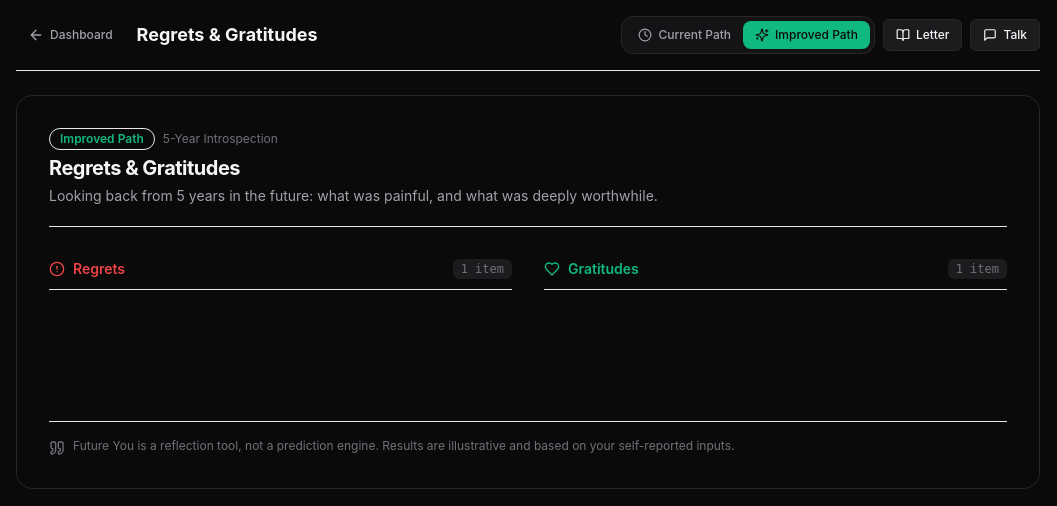
Scenario: ReflectionsPage Route › switches between persona tabs and syncs URL without reload
This screenshot has width=1057, height=506.
// Click Current Path tab
Click the tab with aria-label "View Current Path reflections" at (685, 35), box [626, 21, 743, 49]
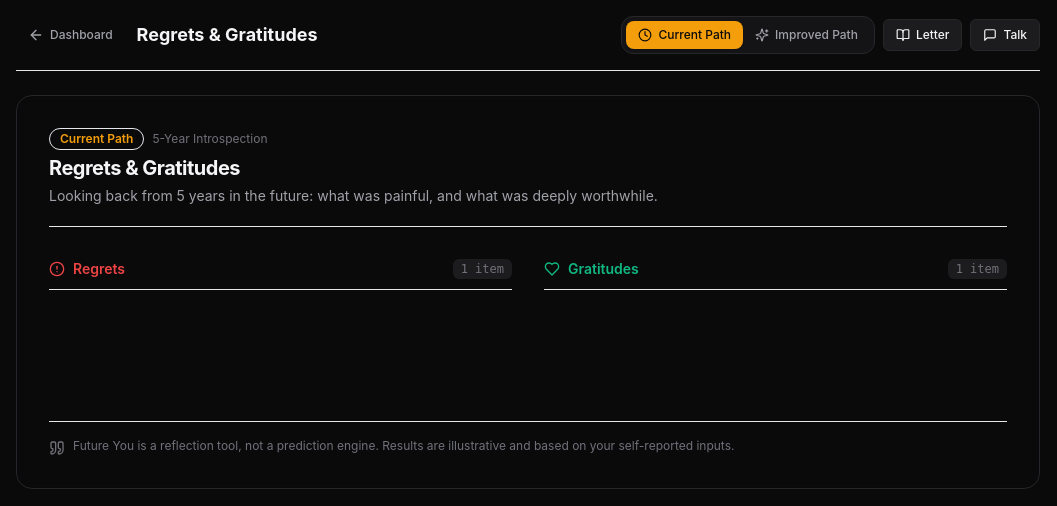
// Click Improved Path tab
Click the tab with aria-label "View Improved Path reflections" at (806, 35), box [743, 21, 870, 49]
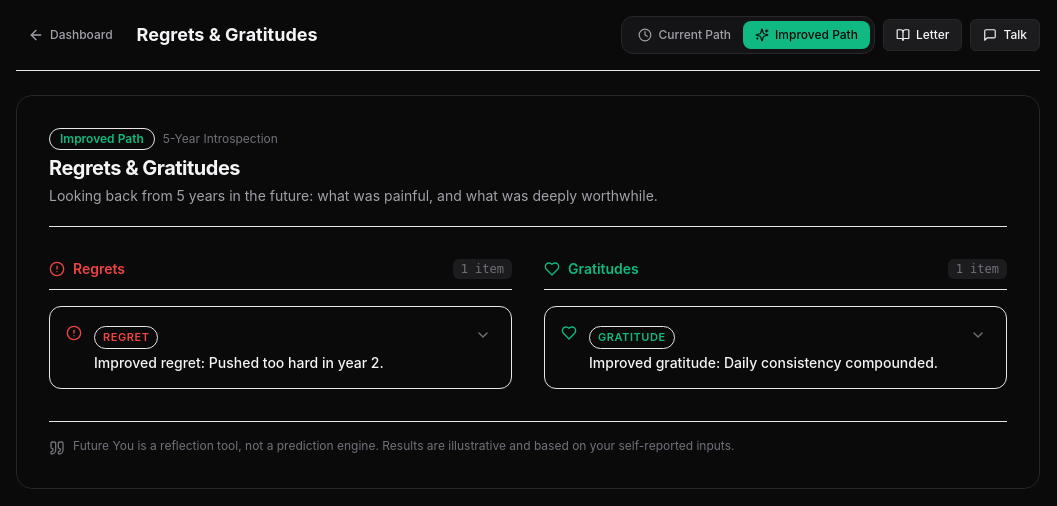
Expected: the text "Improved regret: Pushed too hard in year 2." is shown, [94, 352, 384, 372]
